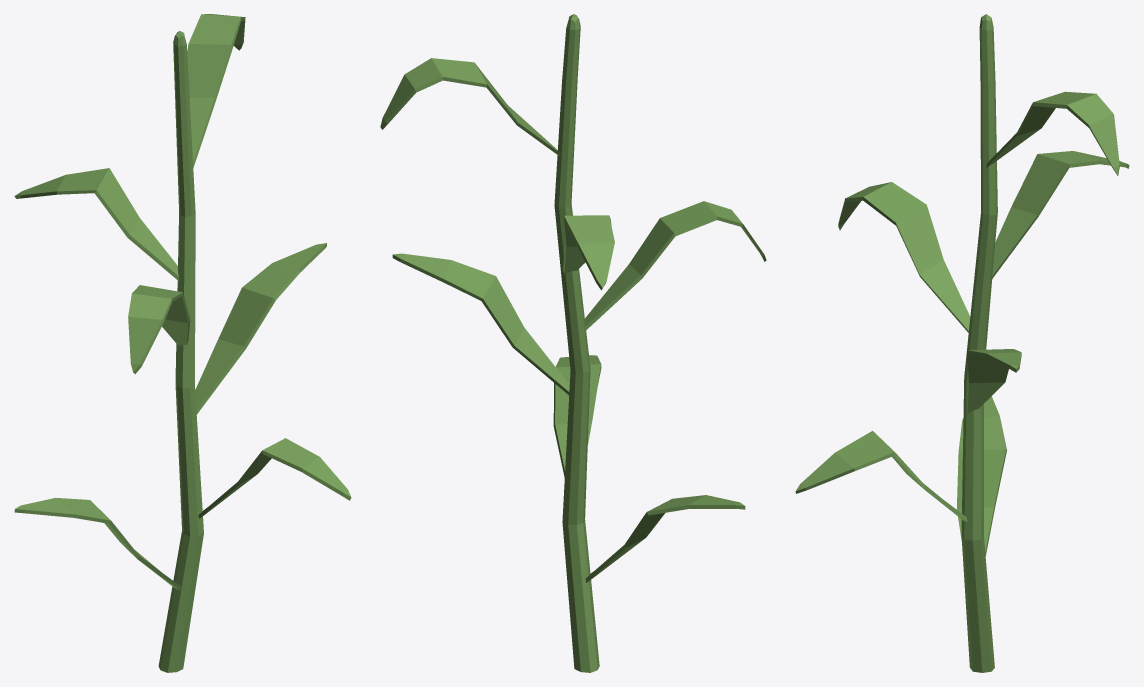
File: corn_3.gltf
3 renders of one model, left to right at view 1: azimuth 30°, elevation 25°; view 2: azimuth 150°, elevation 25°; view 3: azimuth 270°, elevation 25°, orthographic. The views are drawn at different scales.
Parts seen in each view (by area): view 1: corn_3; view 2: corn_3; view 3: corn_3.
Part boxes in pixels (x1,y1,x2,y2): corn_3: (14, 14, 351, 672); corn_3: (380, 14, 766, 672); corn_3: (795, 14, 1129, 672).
Size of the model in its own units: 0.6747 by 1.25 by 0.5726.
1 material, 1 textured.
